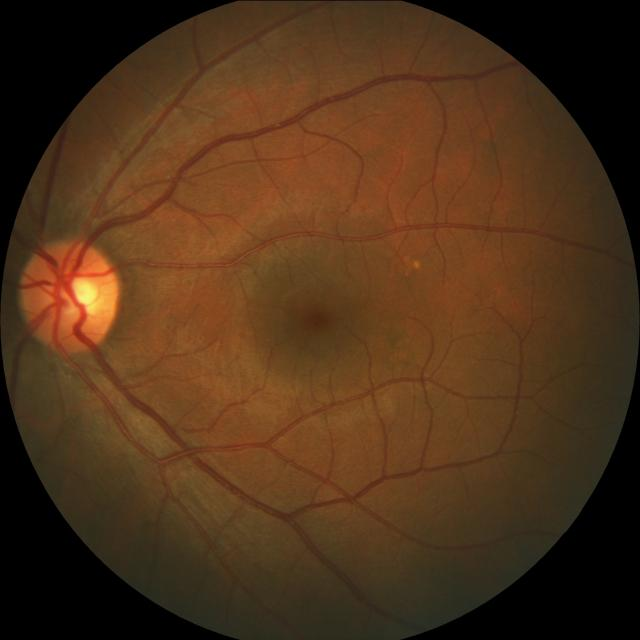OC: (47, 271, 98, 321)
OD: (18, 237, 120, 352)
